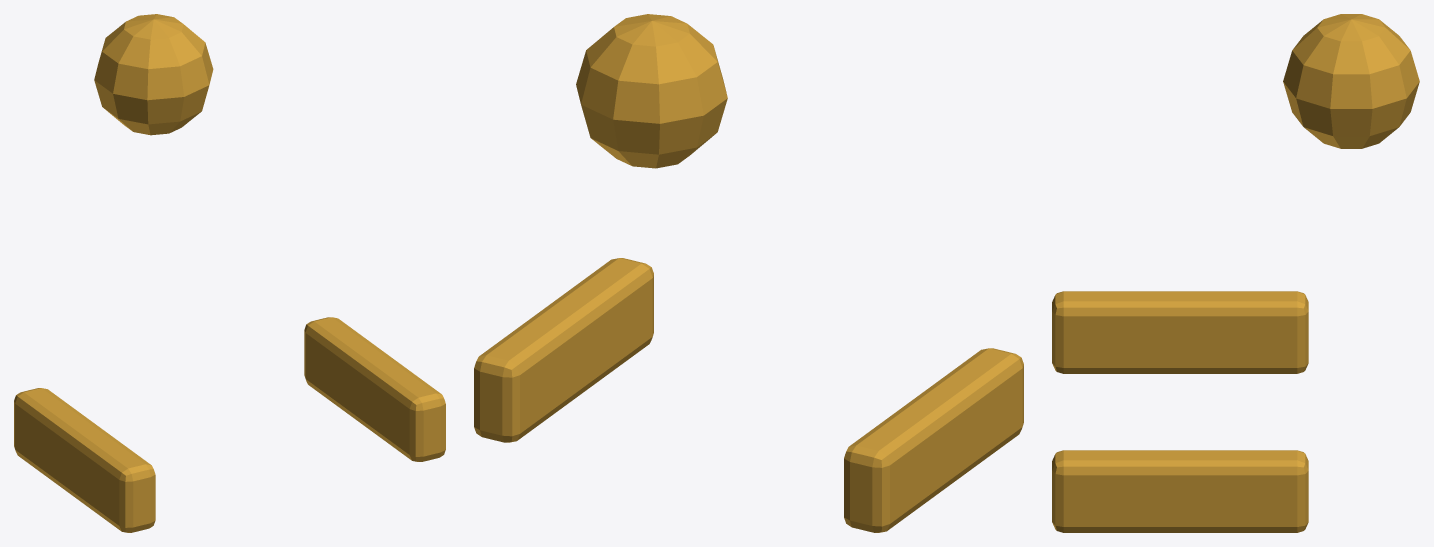
The model's file is ThroneGold.fbx.
3 views of the same model, side by side, from view 1: azimuth 30°, elevation 25°; view 2: azimuth 150°, elevation 25°; view 3: azimuth 270°, elevation 25° (orthographic). The views are drawn at different scales.
Visible parts, largest first — view 1: ThroneArm-3.001; view 2: ThroneArm-3.001; view 3: ThroneArm-3.001.
Part boxes in pixels (<box>): ThroneArm-3.001: <box>14,14,445,532</box>; ThroneArm-3.001: <box>474,14,1023,532</box>; ThroneArm-3.001: <box>1052,14,1419,532</box>.
Size of the model in its own units: 740 by 830 by 645.
